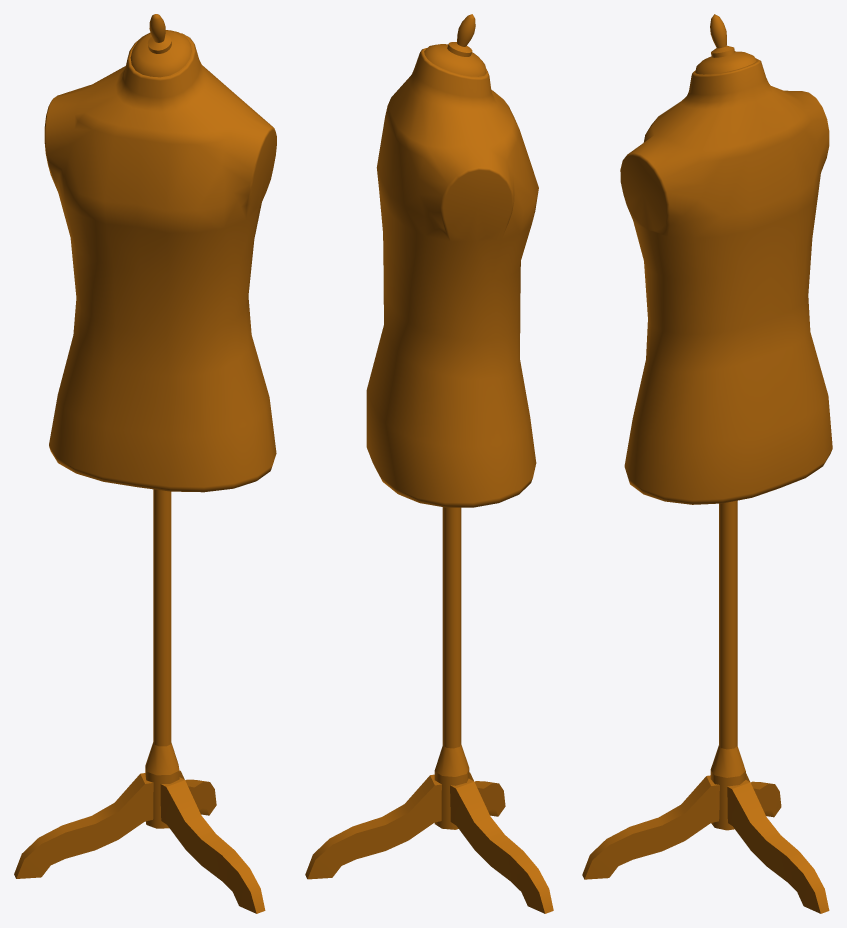
The model's file is Ma-no-canh (6.25, 4.1, 0.3).glb.
3 views of the same model, side by side, from view 1: azimuth 30°, elevation 25°; view 2: azimuth 150°, elevation 25°; view 3: azimuth 270°, elevation 25° (orthographic).
Visible parts, largest first — view 1: Dress; view 2: Dress; view 3: Dress.
Part boxes in pixels (x1=…): Dress: x1=14, y1=14, x2=276, y2=913; Dress: x1=305, y1=14, x2=553, y2=913; Dress: x1=582, y1=14, x2=832, y2=913.
Bounding box in the file's own units: 0.509 × 1.85 × 0.4972.
